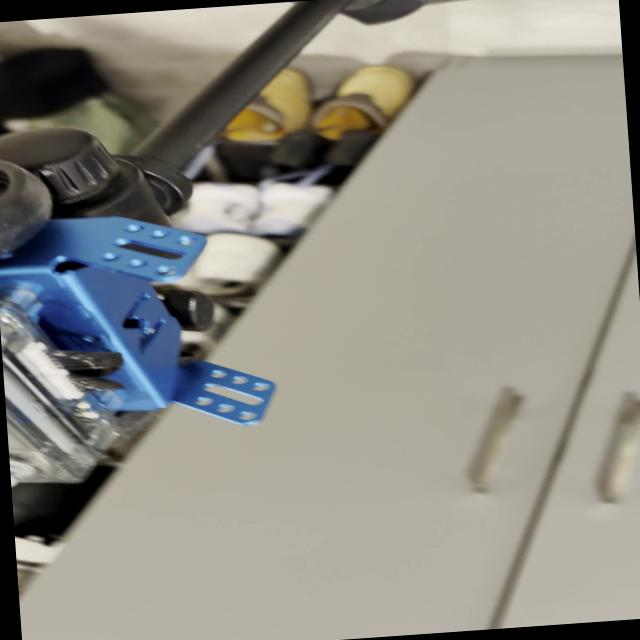mbot-detection: (0, 129, 289, 489)
